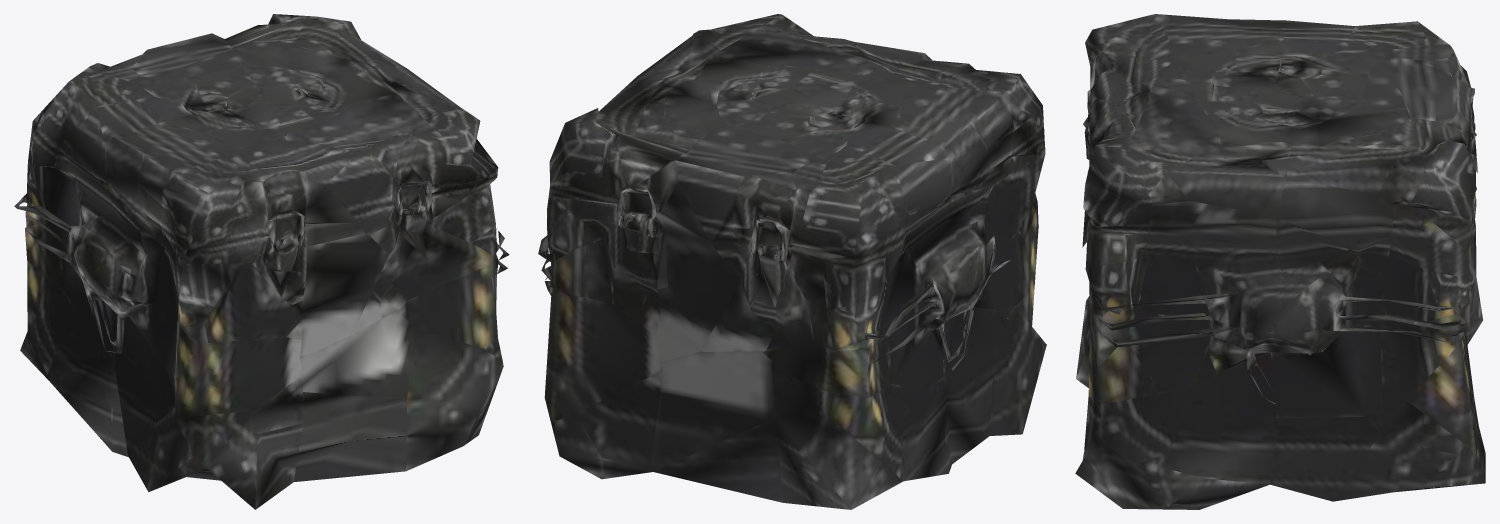
File: caja-far.glb
3 views of the same model, side by side, from view 1: azimuth 30°, elevation 25°; view 2: azimuth 150°, elevation 25°; view 3: azimuth 270°, elevation 25° (orthographic). The views are drawn at different scales.
Size of the model in its own units: 1.88 by 1.69 by 1.83.
Materials: 1 (1 with a texture image).
